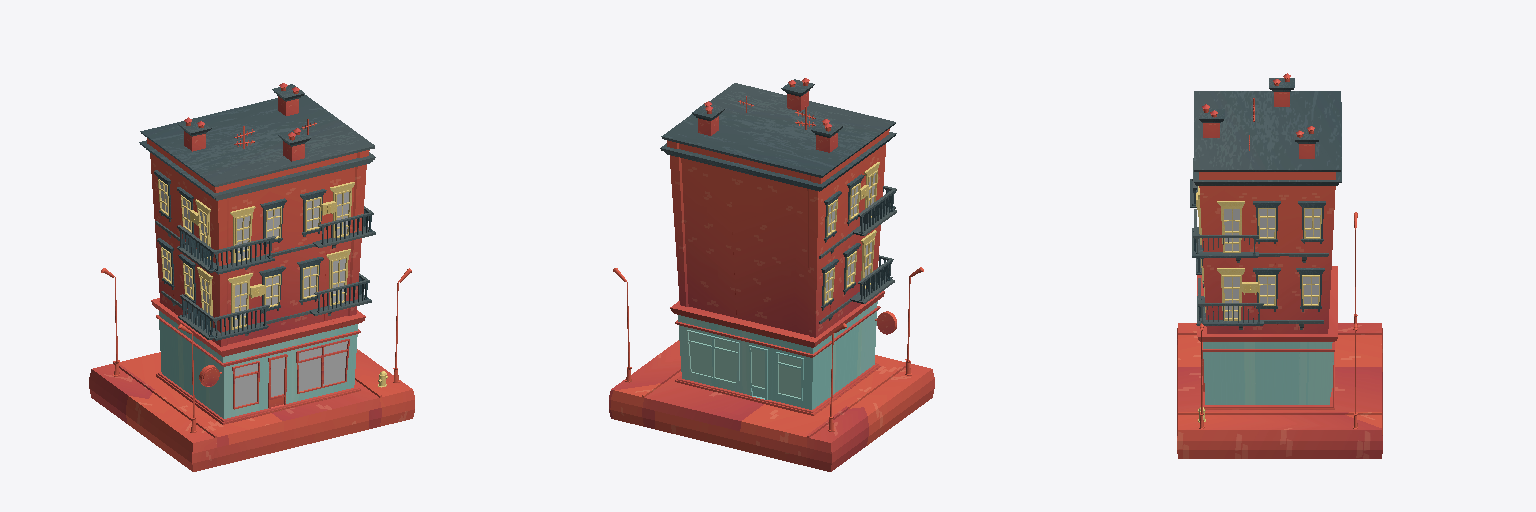
3 views of the same model, side by side, from view 1: azimuth 30°, elevation 25°; view 2: azimuth 150°, elevation 25°; view 3: azimuth 270°, elevation 25° (orthographic).
Parts seen in each view (by area): view 1: Plane.001, bâtiment_Cube.025, café_Cube.024, toit_Cube.026, toit.001_Cube.027, grande_fenêtre.001_Cube.034, grande_fenêtre.003_Cube.094, fenêtre.002_Cube.018, fenêtre_Cube.007, grande_fenêtre.002_Cube.093, grande_fenêtre.000_Cube.092, fenêtre.001_Cube.015 (+8 smaller); view 2: bâtiment_Cube.025, Plane.001, café_Cube.024, toit_Cube.026, toit.001_Cube.027, barrière.008_Cube.052, Cube_Cube.030, Cube.001_Cube.009, Cube.002_Cube.008, barrière.009_Cube.055; view 3: Plane.001, bâtiment_Cube.025, café_Cube.024, toit_Cube.026, grande_fenêtre.004_Cube.044, grande_fenêtre.006_Cube.046, fenêtre.006_Cube.049, fenêtre.004_Cube.037, fenêtre.005_Cube.048, fenêtre.007_Cube.050, toit.001_Cube.027, Cube_Cube.030 (+1 smaller).
Boxes of the visible parts, box(x1,y1,x2,y2) form: Plane.001: box(89, 349, 414, 471); bâtiment_Cube.025: box(147, 138, 369, 346); café_Cube.024: box(151, 298, 365, 424); toit_Cube.026: box(140, 94, 374, 186); toit.001_Cube.027: box(139, 140, 375, 198); grande_fenêtre.001_Cube.034: box(230, 206, 255, 262); grande_fenêtre.003_Cube.094: box(326, 249, 350, 305); fenêtre.002_Cube.018: box(297, 257, 323, 304); fenêtre_Cube.007: box(300, 189, 326, 236); grande_fenêtre.002_Cube.093: box(228, 273, 252, 329); grande_fenêtre.000_Cube.092: box(330, 182, 354, 237); fenêtre.001_Cube.015: box(260, 198, 286, 244); bâtiment_Cube.025: box(667, 129, 889, 337); Plane.001: box(609, 340, 934, 471); café_Cube.024: box(670, 291, 884, 415); toit_Cube.026: box(661, 83, 895, 177); toit.001_Cube.027: box(660, 132, 896, 189); barrière.008_Cube.052: box(858, 189, 895, 233); Cube_Cube.030: box(781, 79, 814, 111); Cube.001_Cube.009: box(811, 122, 843, 152); Cube.002_Cube.008: box(692, 104, 724, 135); barrière.009_Cube.055: box(858, 259, 892, 300); Plane.001: box(1177, 323, 1382, 458); bâtiment_Cube.025: box(1199, 172, 1335, 333); café_Cube.024: box(1197, 266, 1337, 409); toit_Cube.026: box(1194, 91, 1340, 171); grande_fenêtre.004_Cube.044: box(1217, 201, 1244, 252); grande_fenêtre.006_Cube.046: box(1217, 268, 1244, 320); fenêtre.006_Cube.049: box(1296, 268, 1324, 311); fenêtre.004_Cube.037: box(1298, 201, 1325, 243); fenêtre.005_Cube.048: box(1253, 201, 1280, 243); fenêtre.007_Cube.050: box(1253, 268, 1280, 311); toit.001_Cube.027: box(1194, 102, 1341, 182); Cube_Cube.030: box(1199, 109, 1224, 137).
Bounding box in the file's own units: 4.49 × 5.54 × 3.42.
Materials: 24 (4 with a texture image).